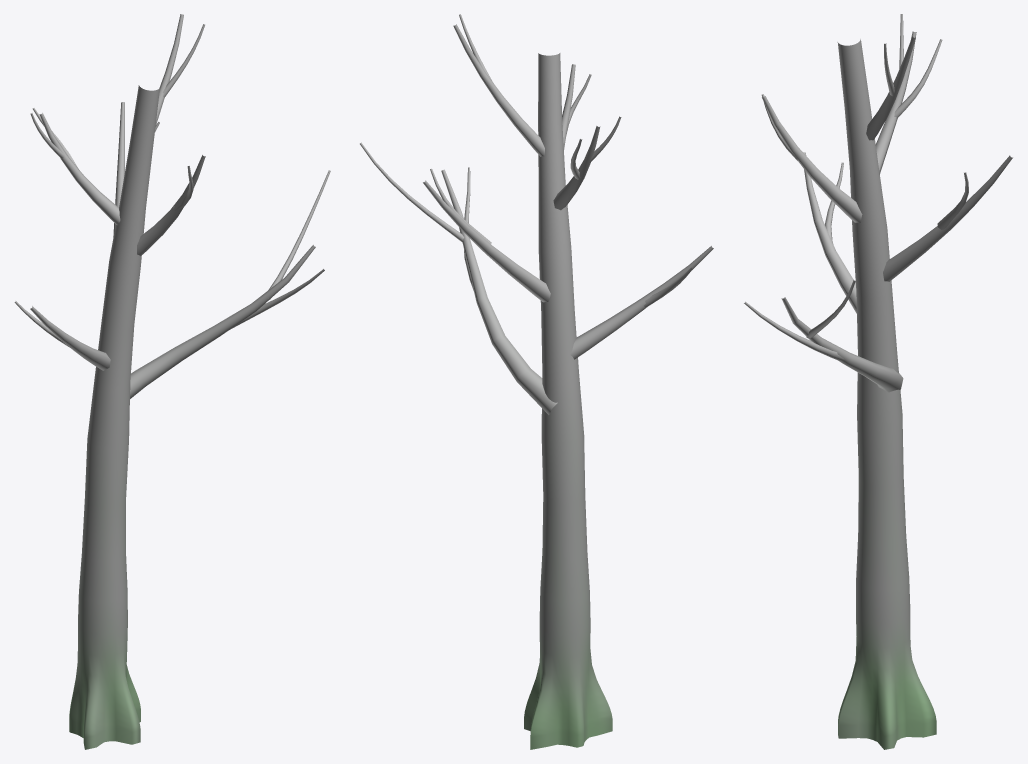
The model's file is jungleA_bark_lod0.glb.
The picture shows the model from 3 angles, left to right: view 1: azimuth 30°, elevation 25°; view 2: azimuth 150°, elevation 25°; view 3: azimuth 270°, elevation 25°; orthographic projection. The views are drawn at different scales.
Visible parts, largest first — view 1: jungleA; view 2: jungleA; view 3: jungleA.
Boxes of the visible parts, x1,y1,x2,y2 form: jungleA: [14, 14, 330, 749]; jungleA: [360, 14, 713, 749]; jungleA: [744, 14, 1012, 749].
Size of the model in its own units: 13.85 by 27.91 by 9.18.
